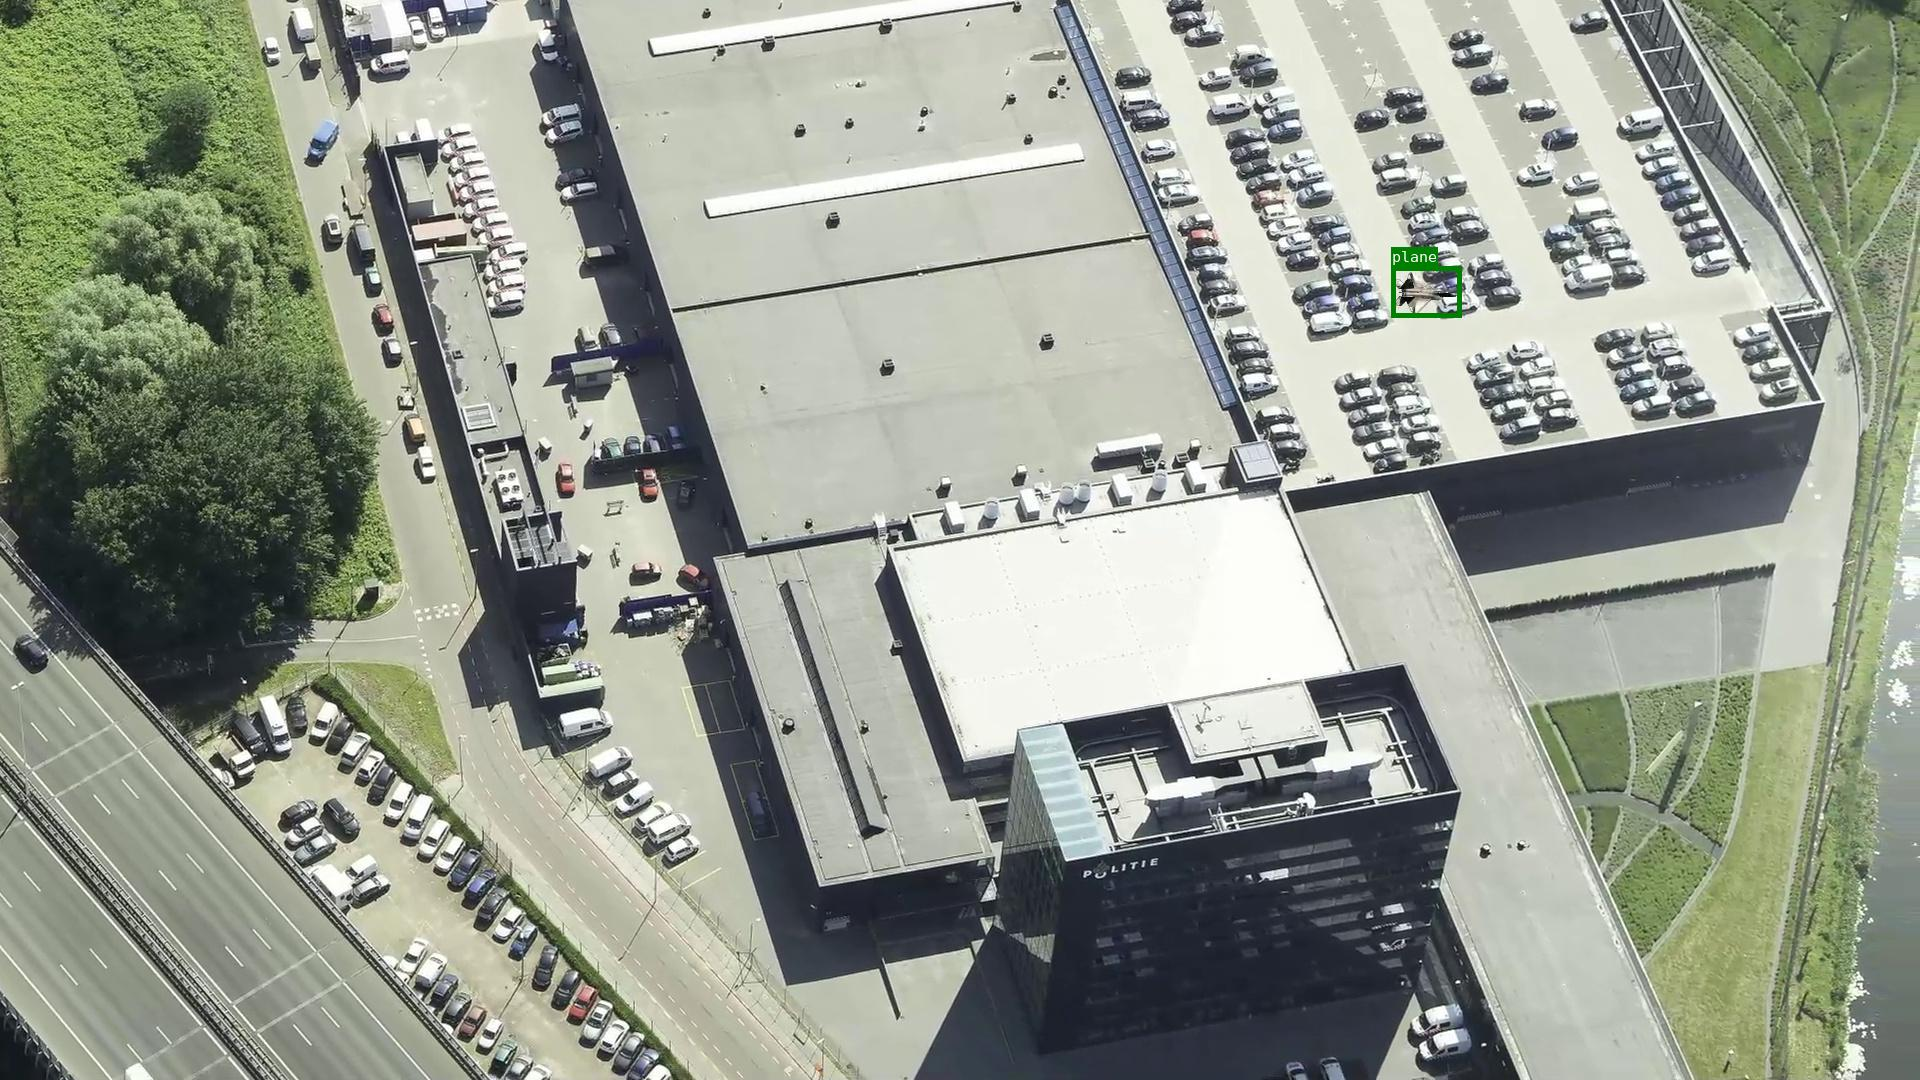plane: (1391, 266, 1461, 316)
